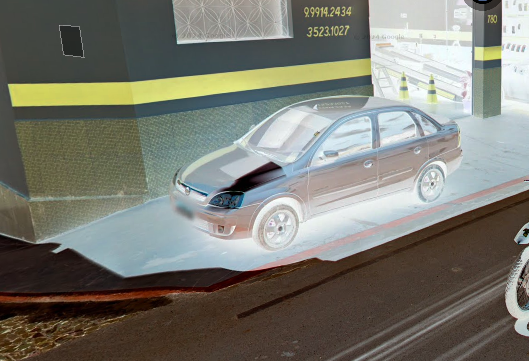car: (164, 90, 468, 255)
